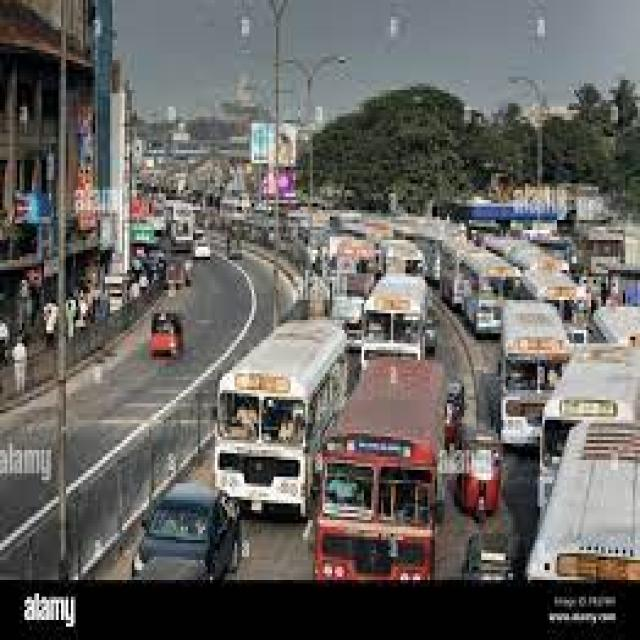bus: (315, 357, 442, 577), (215, 317, 344, 517), (530, 420, 638, 580), (540, 343, 638, 510), (501, 303, 569, 443), (440, 233, 518, 333), (362, 273, 423, 360), (523, 267, 589, 343), (381, 240, 423, 273)
car: (134, 483, 237, 580)
three wheeler: (457, 430, 498, 523), (467, 530, 511, 577), (149, 313, 181, 357), (445, 380, 462, 447)
